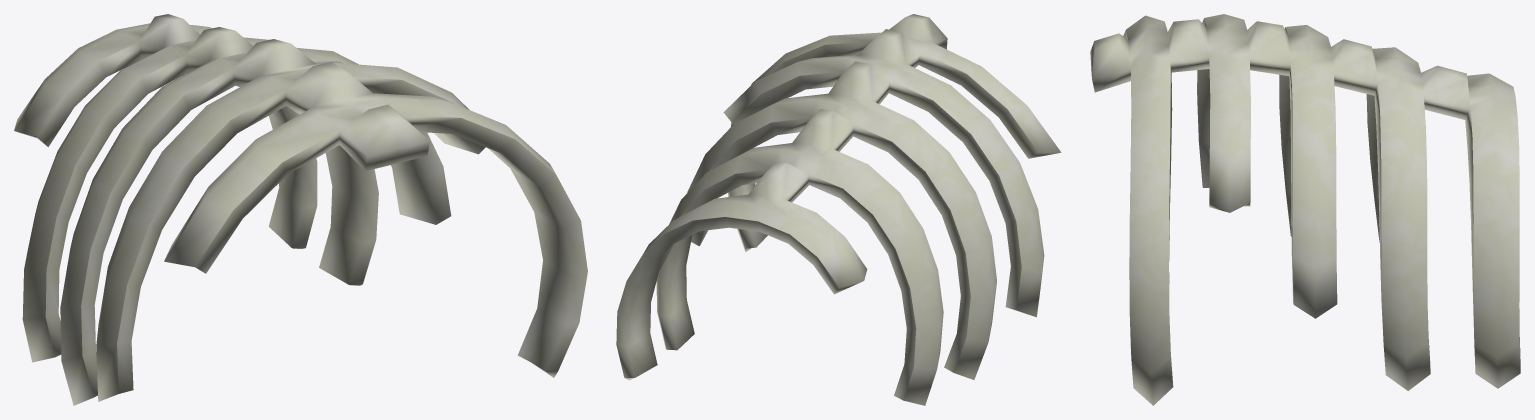
Rendered from Bones.fbx.
3 renders of one model, left to right at view 1: azimuth 30°, elevation 25°; view 2: azimuth 150°, elevation 25°; view 3: azimuth 270°, elevation 25°, orthographic. The views are drawn at different scales.
Visible parts, largest first — view 1: Bones_Baked; view 2: Bones_Baked; view 3: Bones_Baked.
Part boxes in pixels (x1,y1,x2,y2): Bones_Baked: (14, 14, 587, 405); Bones_Baked: (616, 14, 1061, 405); Bones_Baked: (1090, 14, 1520, 405).
Size of the model in its own units: 311 by 232 by 300.
